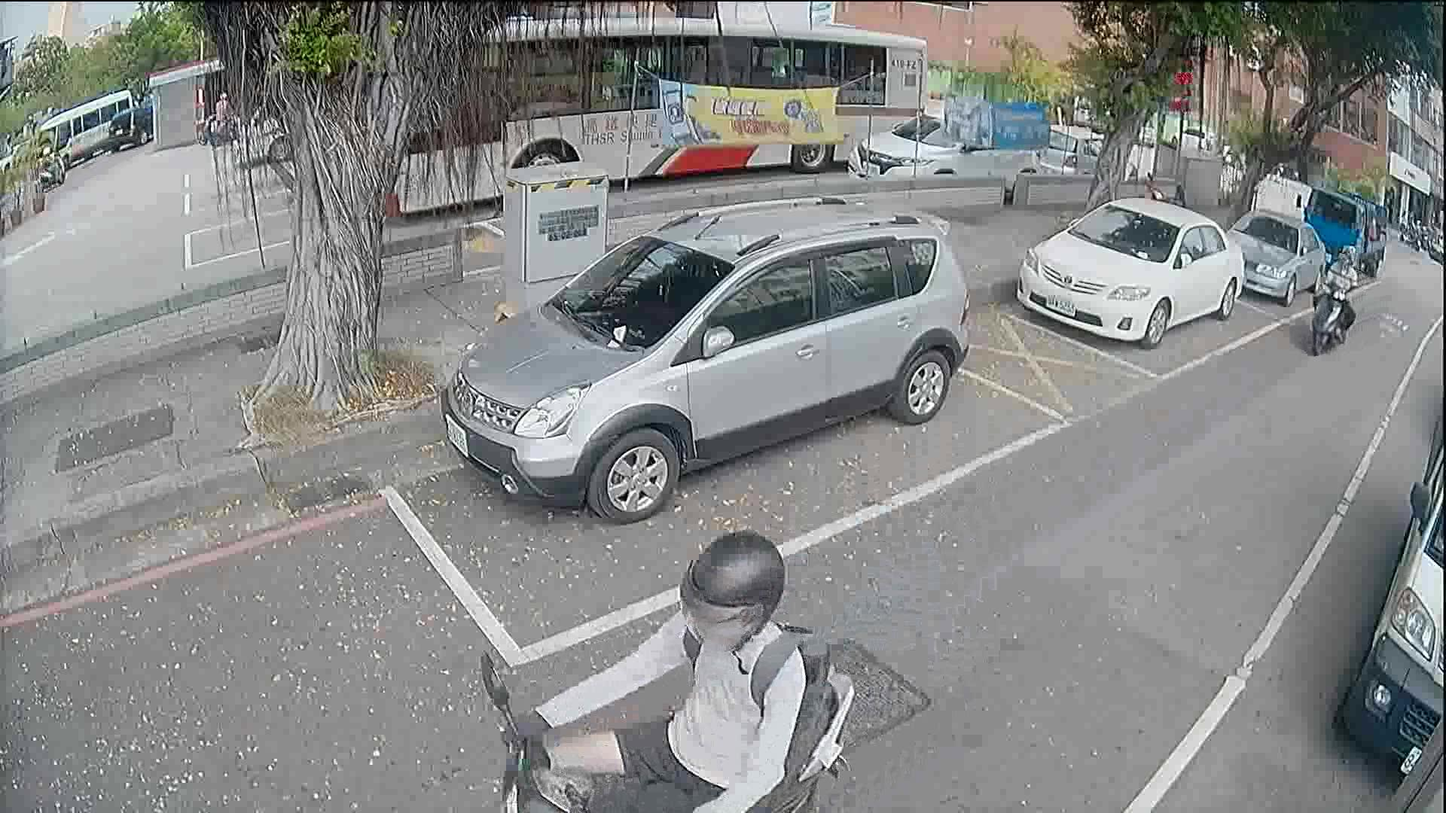person: (497, 524, 808, 812), (1309, 243, 1357, 345), (208, 85, 232, 143), (38, 142, 55, 173)
